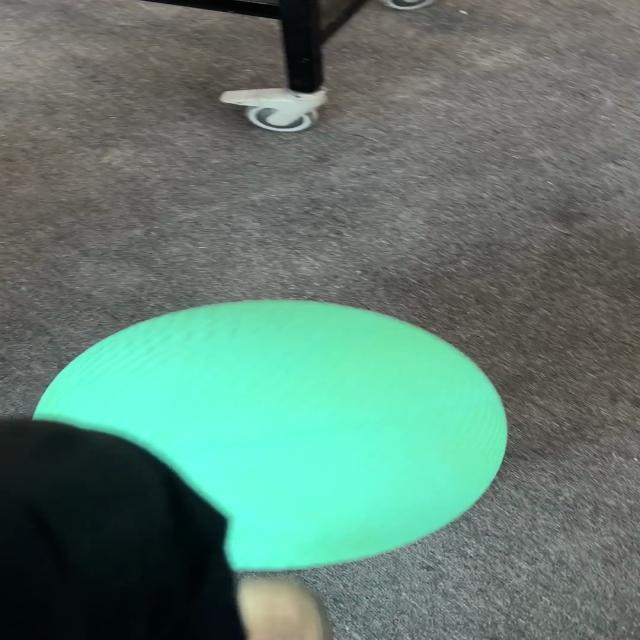Algae: (30, 298, 510, 572)
